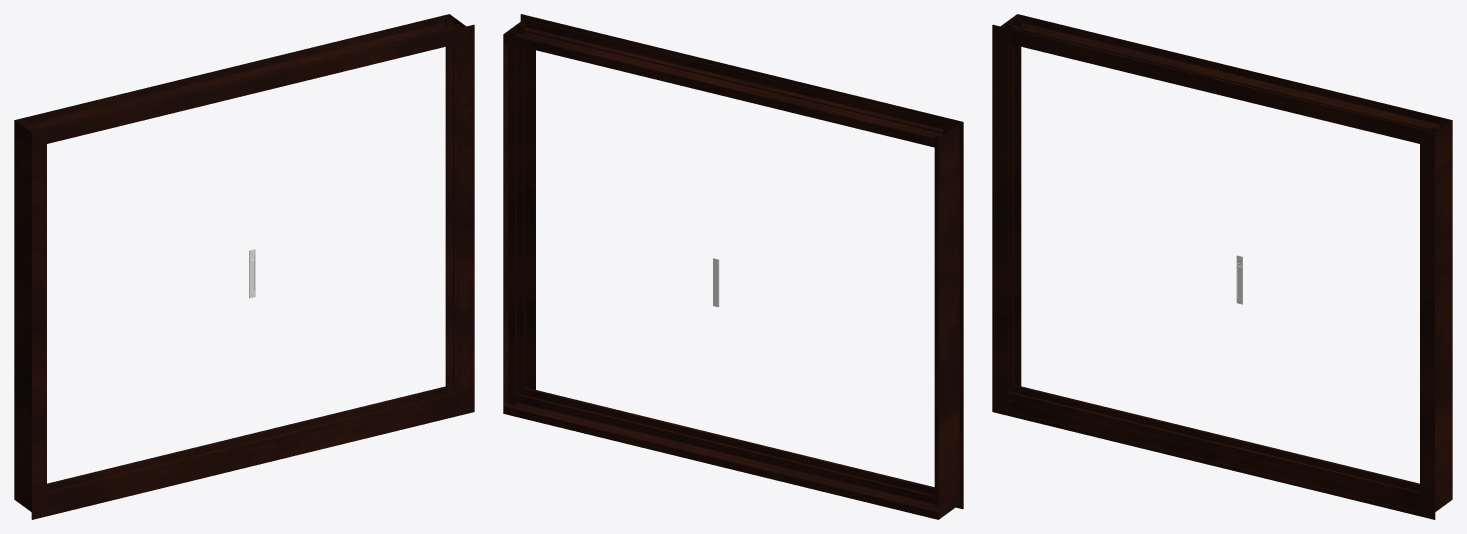
File: RAIL WINDOW.glb
The picture shows the model from 3 angles, left to right: view 1: azimuth 30°, elevation 25°; view 2: azimuth 150°, elevation 25°; view 3: azimuth 330°, elevation 25°; orthographic projection.
Parts seen in each view (by area): view 1: WindowFrame; view 2: WindowFrame; view 3: WindowFrame.
Part boxes in pixels (box(x1,y1,x2,y2)): WindowFrame: box(14, 14, 474, 519); WindowFrame: box(503, 14, 963, 519); WindowFrame: box(992, 14, 1452, 519).
Bounding box in the file's own units: 1.22 × 1.02 × 0.102.
2 materials, 1 textured.
